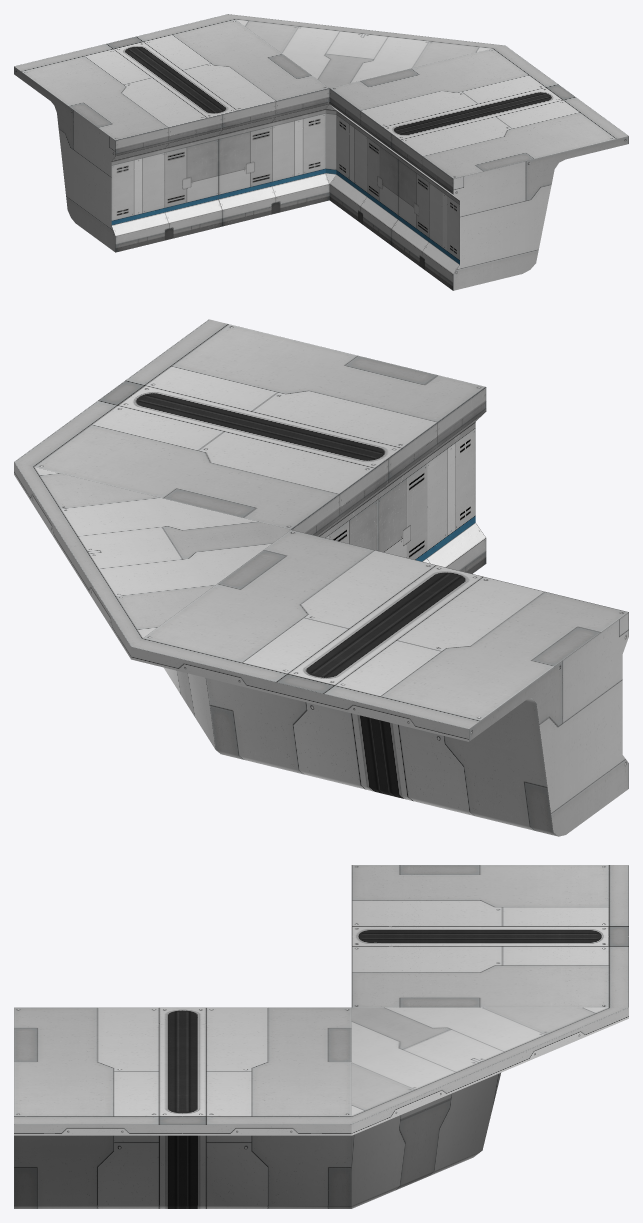
File: Ext_Plateform_Corner_02.FBX
3 renders of one model, top to bottom at view 1: azimuth 30°, elevation 25°; view 2: azimuth 150°, elevation 25°; view 3: azimuth 270°, elevation 25°, orthographic. The views are drawn at different scales.
Parts seen in each view (by area): view 1: Ext_Plateform_Corner_02; view 2: Ext_Plateform_Corner_02; view 3: Ext_Plateform_Corner_02.
Boxes of the visible parts, left/top/right/bottom form: Ext_Plateform_Corner_02: left=14, top=14, right=628, bottom=290; Ext_Plateform_Corner_02: left=14, top=319, right=628, bottom=836; Ext_Plateform_Corner_02: left=14, top=865, right=628, bottom=1208.
Bounding box in the file's own units: 510 × 140 × 510.
